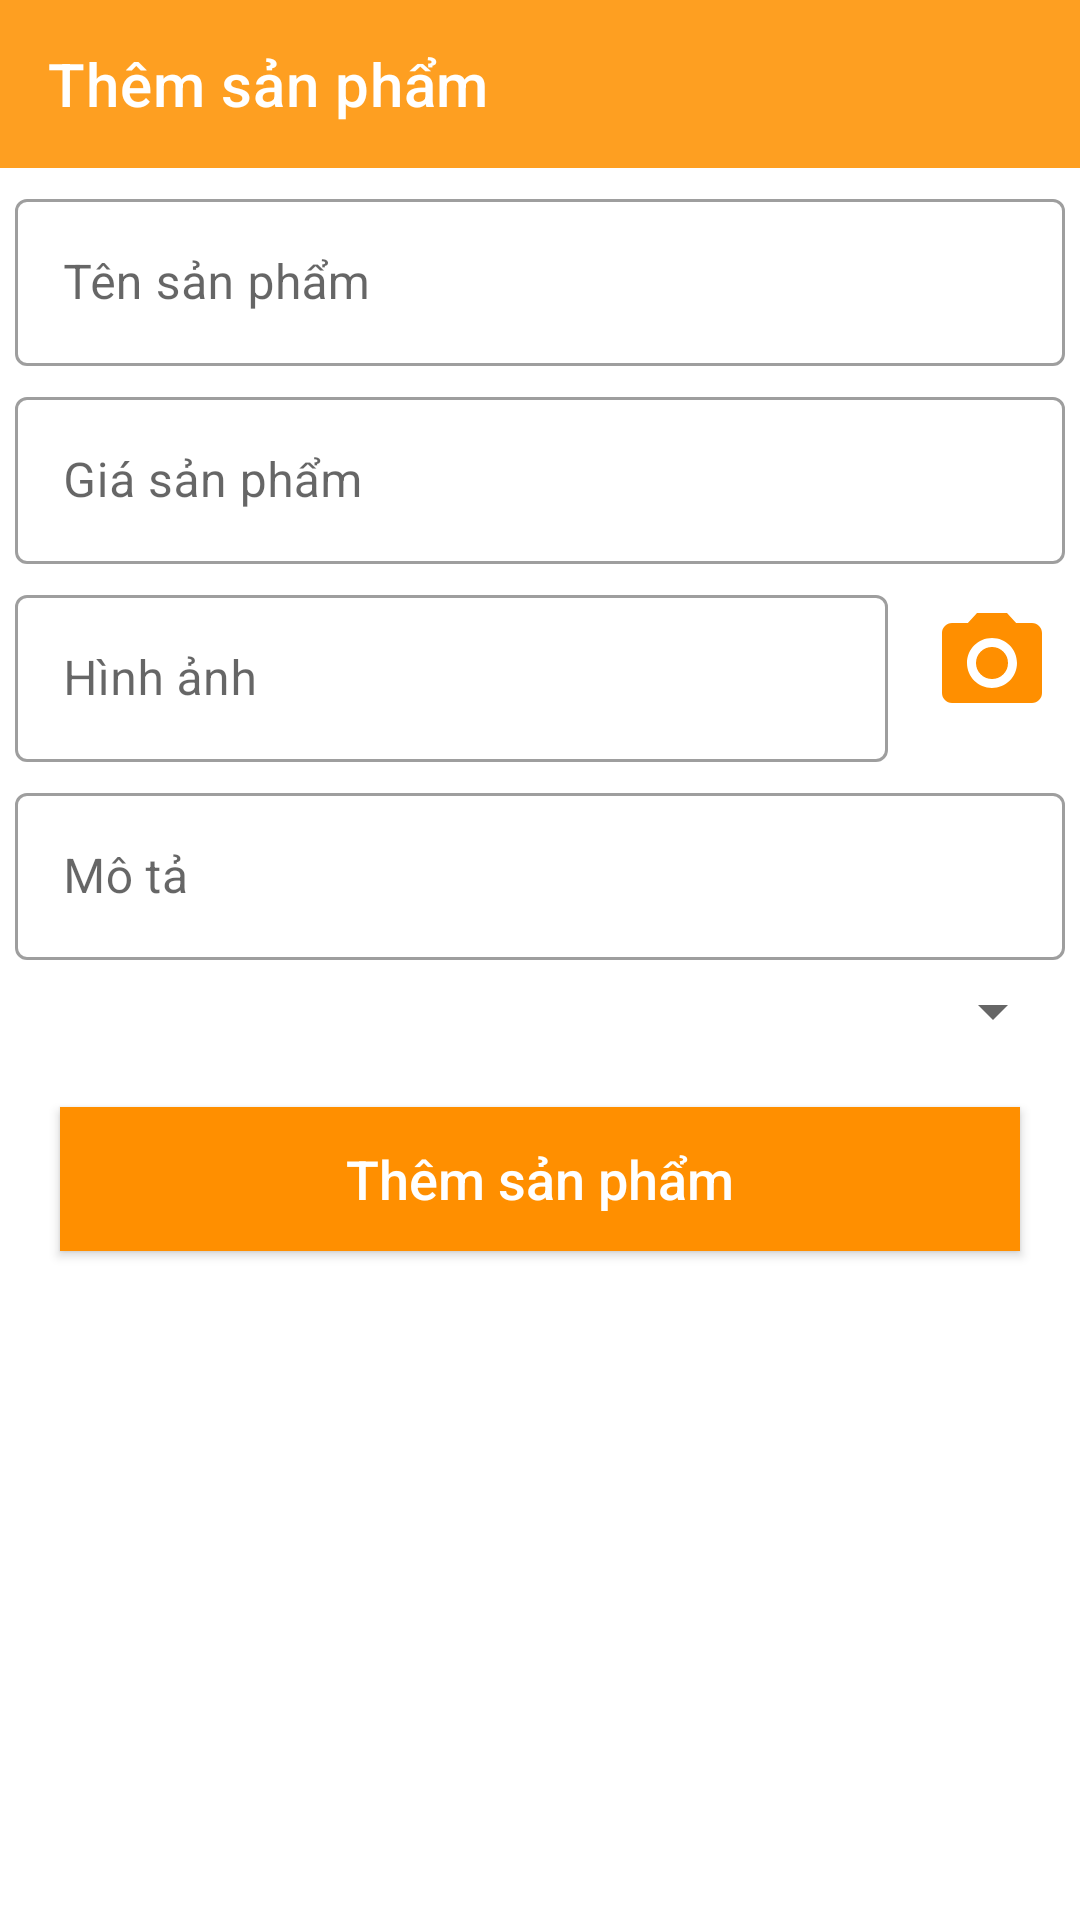

Screen size 1080px x 1920px. Icon name, then its center in pixels as [x,y]:
camera: [992,658]
